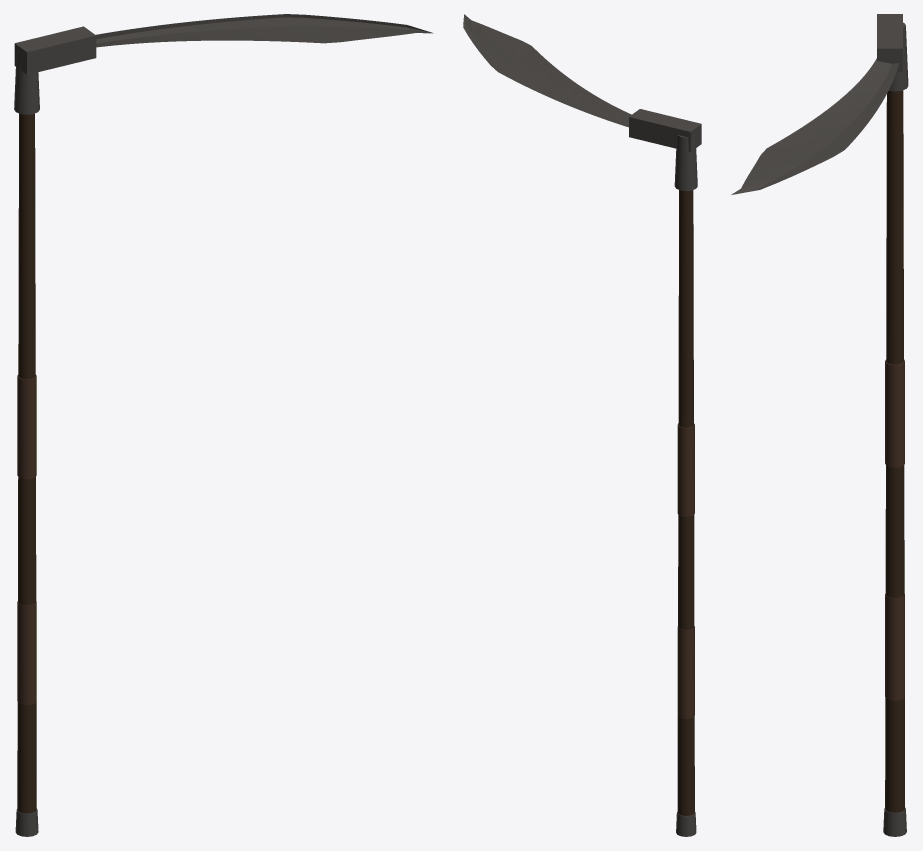
Rendered from scythe.glb.
3 views of the same model, side by side, from view 1: azimuth 30°, elevation 25°; view 2: azimuth 150°, elevation 25°; view 3: azimuth 270°, elevation 25° (orthographic). The views are drawn at different scales.
Parts seen in each view (by area): view 1: WeaponDrawn; view 2: WeaponDrawn; view 3: WeaponDrawn.
Part boxes in pixels (left/top/right/bottom): WeaponDrawn: left=14, top=14, right=433, bottom=836; WeaponDrawn: left=463, top=14, right=701, bottom=836; WeaponDrawn: left=731, top=14, right=908, bottom=836.
Size of the model in its own units: 0.786 by 1.75 by 0.346.
